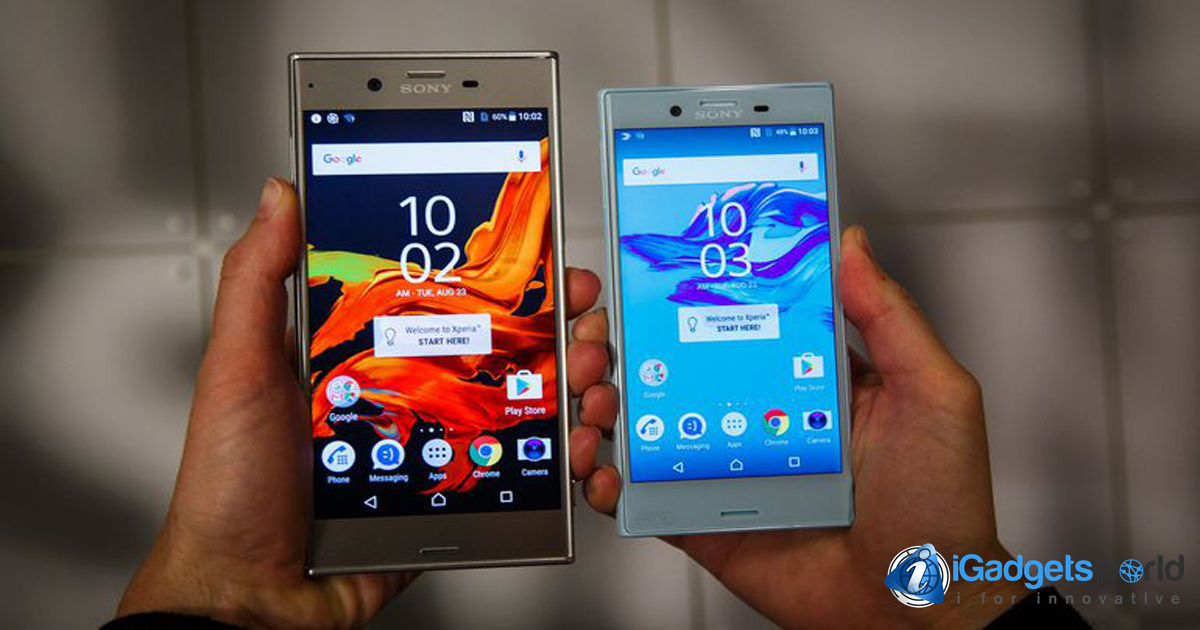smartphone: (286, 48, 575, 579), (600, 81, 855, 539)
